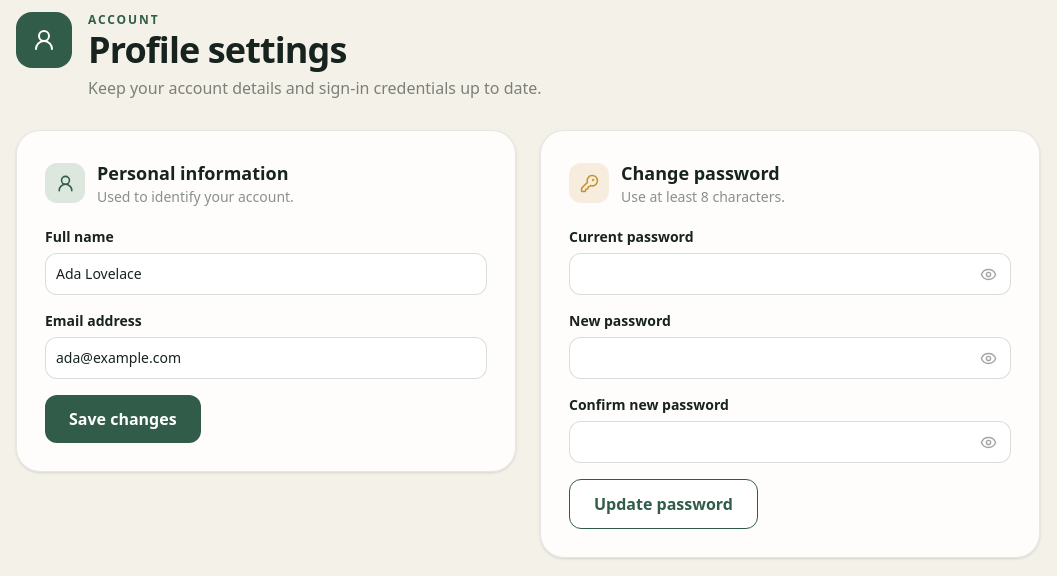
Test: updates the profile and reports the saved user
The width and height of the screenshot is (1057, 576).
Replace the text in the field labelled "Full name" with "Grace Hopper" at (266, 274), box [45, 253, 487, 295]
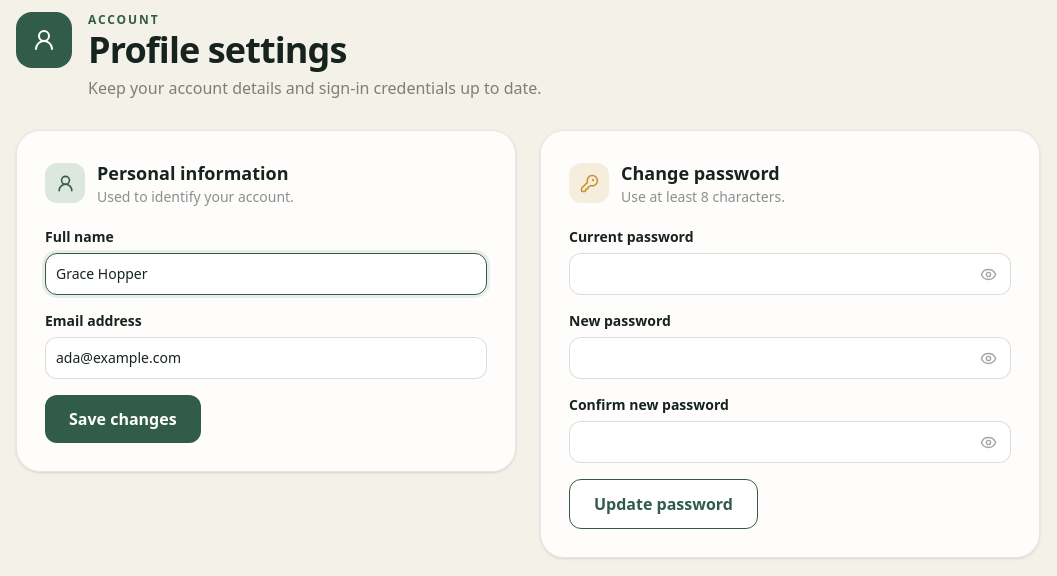
Replace the text in the field labelled "Email address" with "grace@example.com" at (266, 358), box [45, 337, 487, 379]
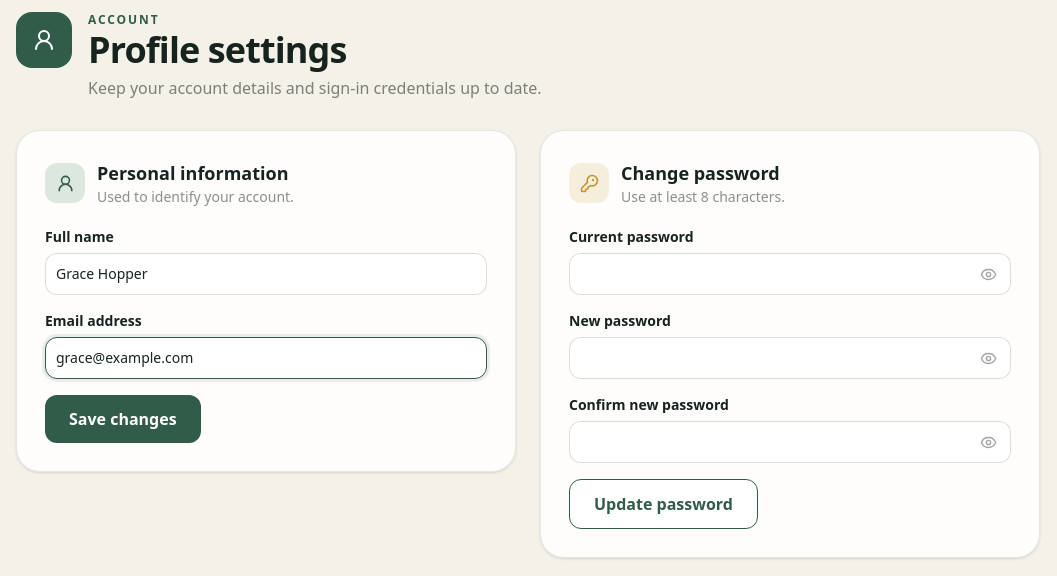
Click the button "Save changes" at (123, 419), box [45, 395, 201, 443]
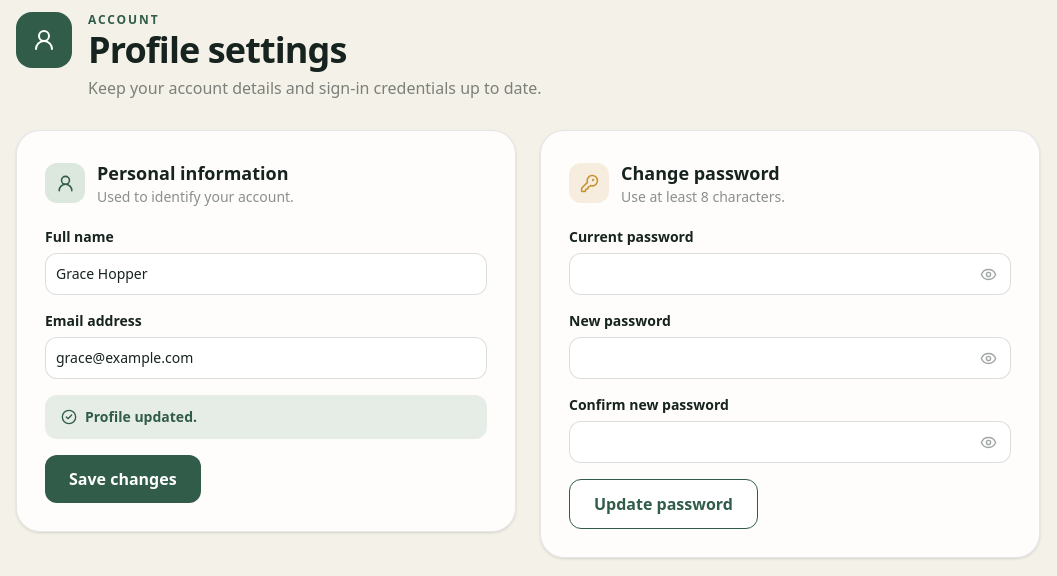
Now the message reads "Profile updated.", box [85, 407, 197, 426]
